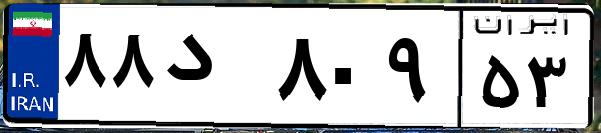0: (330, 28, 385, 110)
3: (525, 38, 570, 115)
5: (475, 38, 525, 113)
8: (270, 28, 330, 110), (57, 26, 110, 100), (110, 28, 158, 98)
9: (385, 28, 445, 110)
د: (158, 20, 270, 120)
